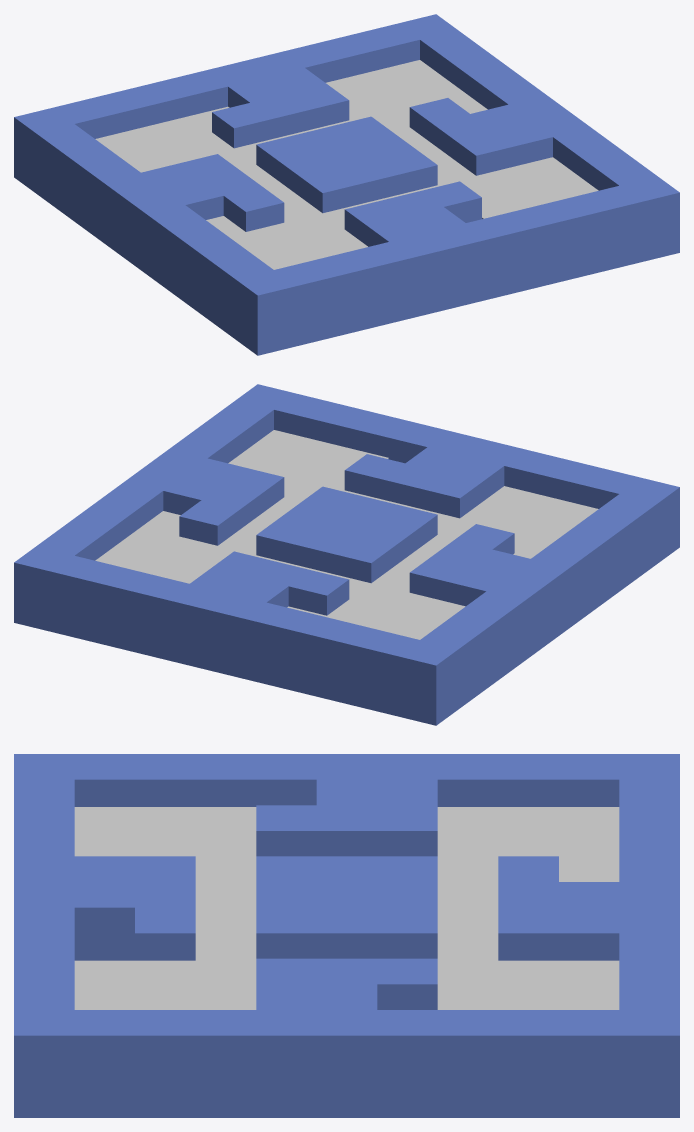
The model's file is 015_platform.fbx.
3 renders of one model, top to bottom at view 1: azimuth 30°, elevation 25°; view 2: azimuth 150°, elevation 25°; view 3: azimuth 270°, elevation 25°, orthographic. The views are drawn at different scales.
Parts seen in each view (by area): view 1: Cube; view 2: Cube; view 3: Cube.
Part boxes in pixels (x1,y1,x2,y2): Cube: (14,14,679,355); Cube: (14,384,679,725); Cube: (14,754,679,1117).
Bounding box in the file's own units: 1100 × 150 × 1100.
